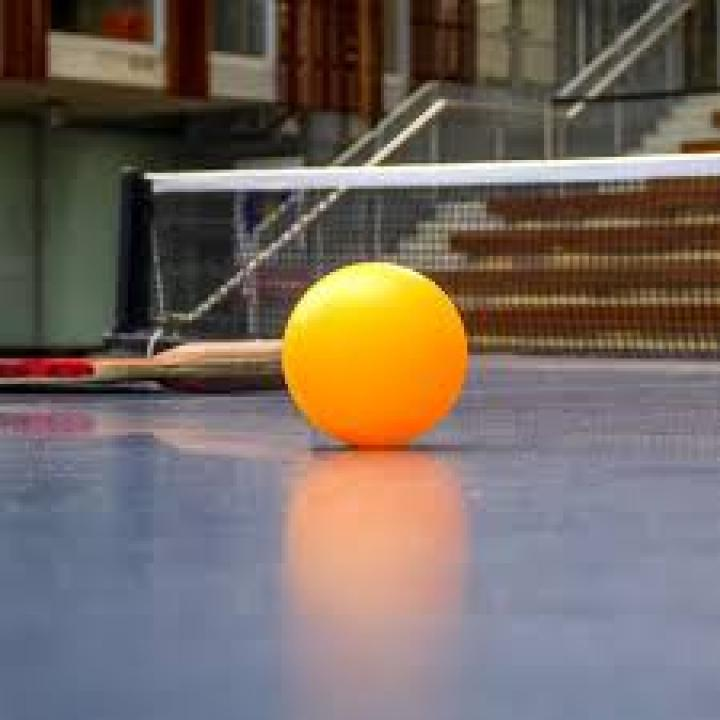orange: (277, 260, 472, 455)
